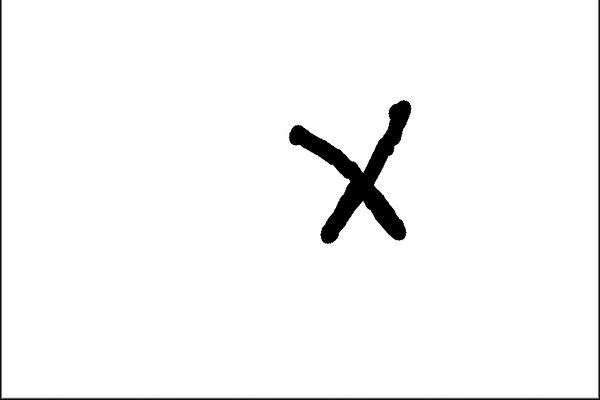X: (262, 90, 448, 285)
